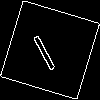I: (25, 25, 59, 73)
